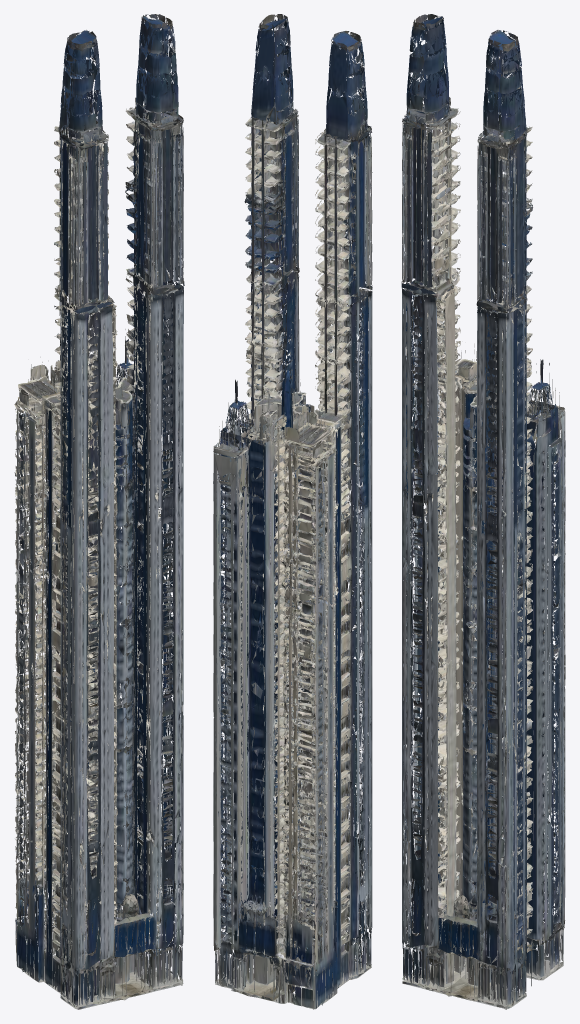
The model's file is princess-tower.glb.
The picture shows the model from 3 angles, left to right: view 1: azimuth 30°, elevation 25°; view 2: azimuth 150°, elevation 25°; view 3: azimuth 330°, elevation 25°; orthographic projection. The views are drawn at different scales.
Visible parts, largest first — view 1: Mesh_0; view 2: Mesh_0; view 3: Mesh_0.
Part boxes in pixels (x1,y1,x2,y2): Mesh_0: [14, 14, 184, 1009]; Mesh_0: [213, 14, 372, 1009]; Mesh_0: [401, 14, 565, 1009].
Size of the model in its own units: 50 by 414 by 49.75.
Materials: 1 (1 with a texture image).
